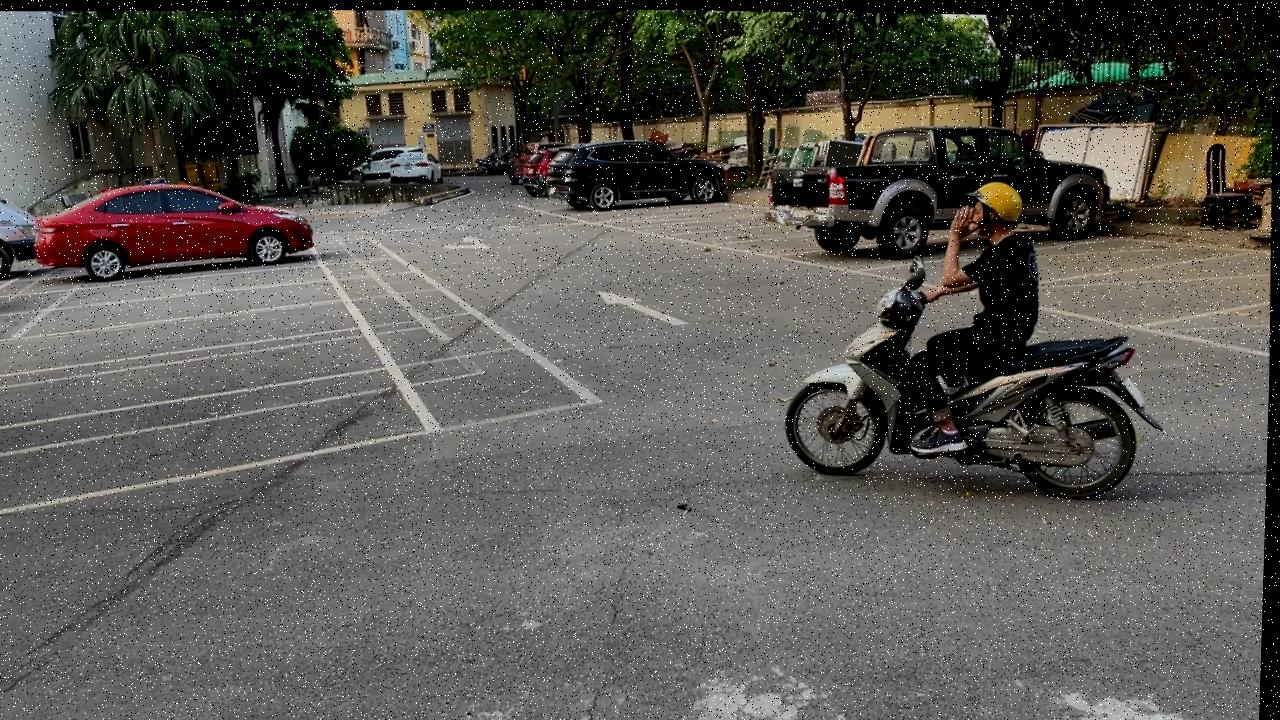helmet: (966, 178, 1028, 223)
motorcyclist: (780, 171, 1172, 504)
